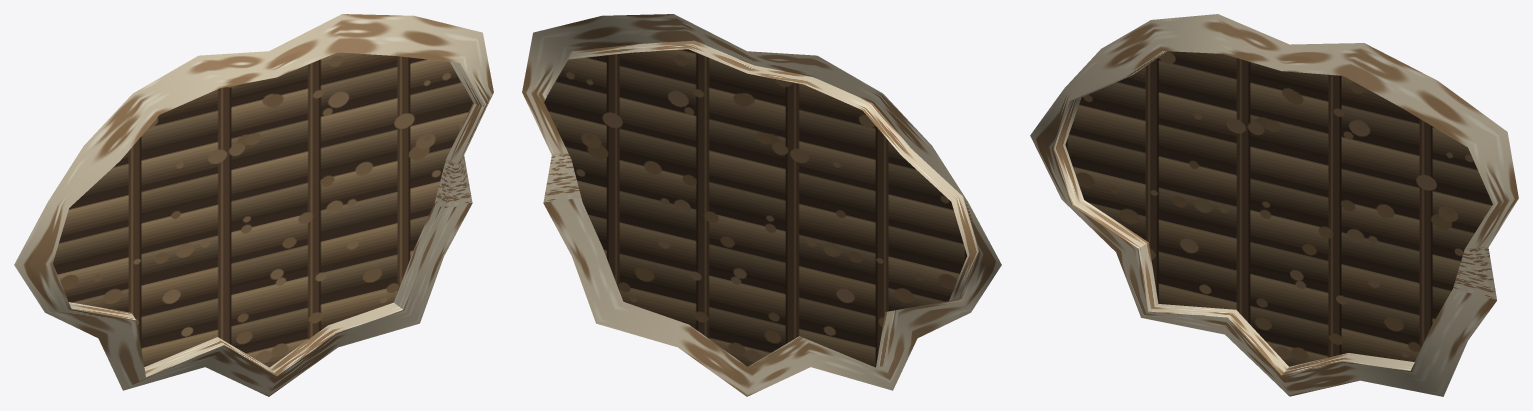
Rendered from SE_Patch_Wattle.glb.
3 views of the same model, side by side, from view 1: azimuth 30°, elevation 25°; view 2: azimuth 150°, elevation 25°; view 3: azimuth 330°, elevation 25° (orthographic).
Visible parts, largest first — view 1: SE_Patch_Wattle; view 2: SE_Patch_Wattle; view 3: SE_Patch_Wattle.
Part boxes in pixels (x1,y1,x2,y2): SE_Patch_Wattle: (14, 14, 493, 396); SE_Patch_Wattle: (522, 14, 1001, 396); SE_Patch_Wattle: (1030, 14, 1518, 396).
Size of the model in its own units: 0.9646 by 0.7013 by 0.028.
1 material, 1 textured.
